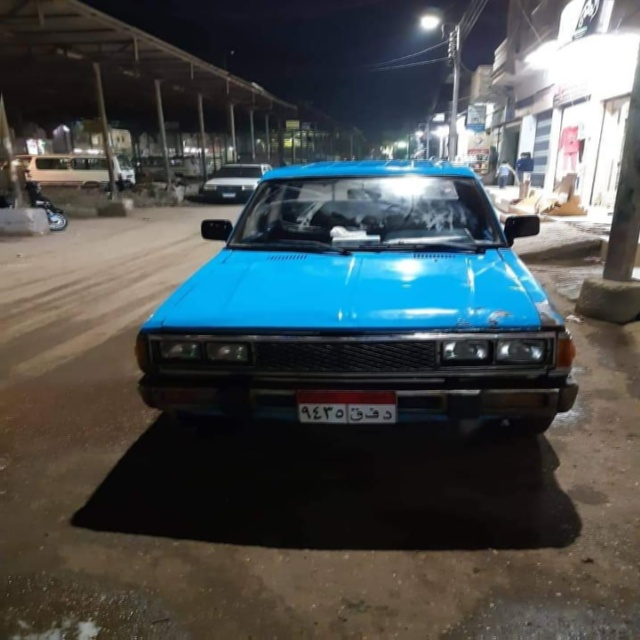License Plate: (293, 391, 398, 425)
